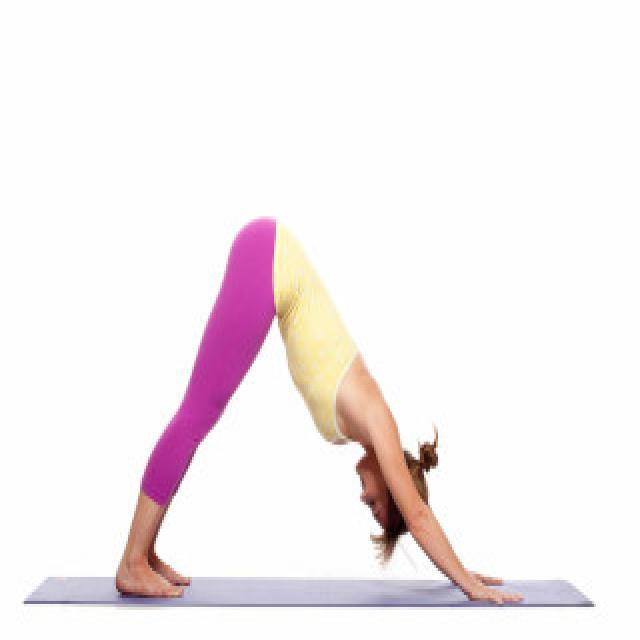yoga-pose downward: (110, 215, 522, 614)
